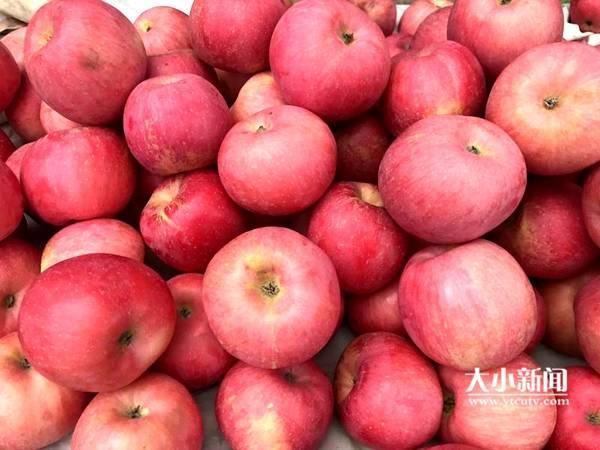apple: (199, 226, 345, 371), (377, 113, 525, 248), (395, 237, 542, 370), (483, 36, 599, 178), (21, 1, 149, 125), (266, 1, 390, 123), (216, 105, 338, 219), (332, 330, 445, 447), (308, 180, 410, 293), (17, 128, 136, 224), (136, 172, 250, 271), (215, 360, 337, 450), (439, 359, 558, 450), (122, 73, 228, 175), (69, 371, 202, 450), (383, 39, 487, 130), (1, 331, 80, 449), (155, 273, 229, 390), (447, 1, 566, 73), (548, 367, 600, 450)
